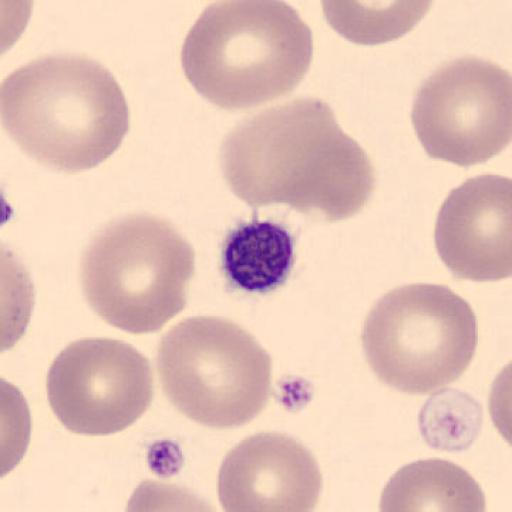Platelet: (215, 215, 301, 297), (414, 384, 485, 454)
RBC: (218, 95, 376, 218), (2, 48, 132, 175), (76, 207, 196, 337), (180, 0, 315, 111), (154, 312, 274, 432), (358, 281, 480, 396), (409, 53, 511, 170), (45, 335, 156, 438), (274, 112, 376, 222), (432, 170, 512, 284), (215, 430, 325, 512), (376, 455, 488, 512), (317, 0, 437, 47), (1, 240, 37, 354), (122, 475, 232, 512), (1, 376, 32, 483), (488, 356, 512, 456), (0, 0, 34, 58)
